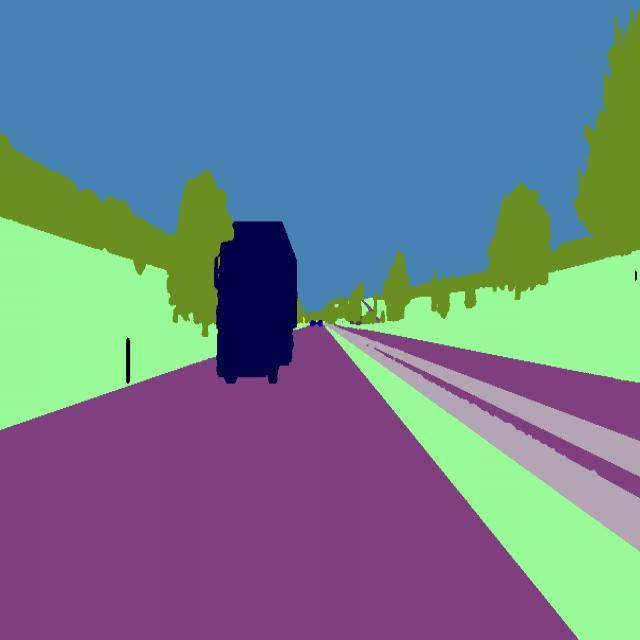safe: (211, 215, 300, 386), (318, 320, 326, 332), (308, 318, 316, 328)
